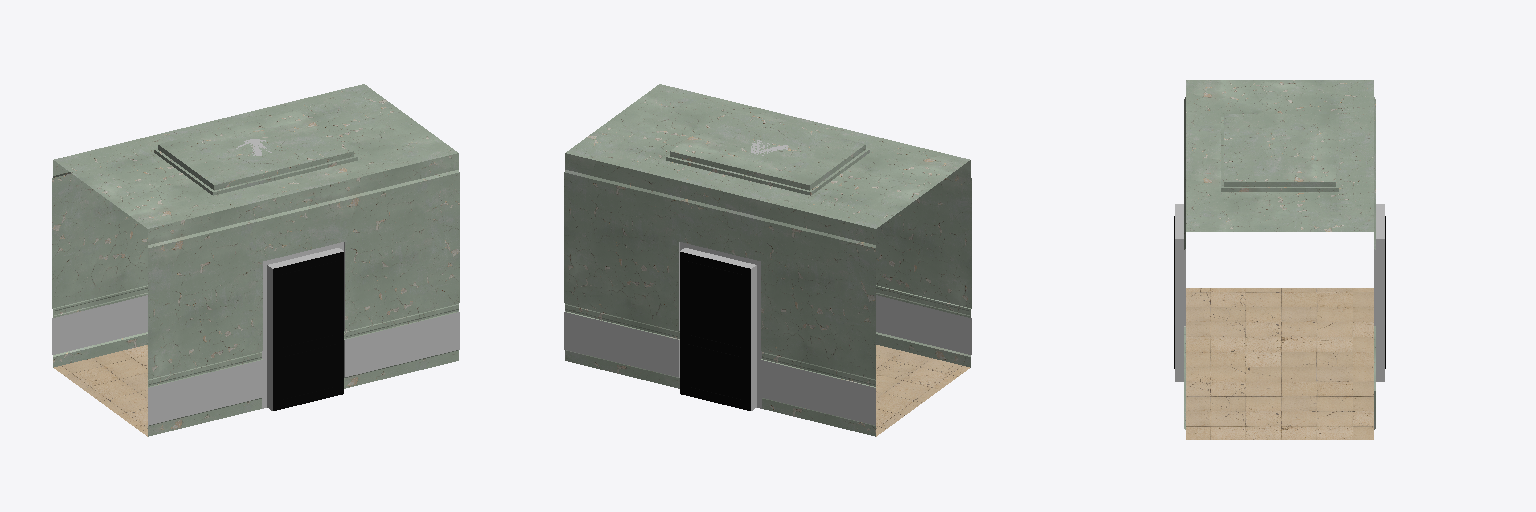
The picture shows the model from 3 angles: view 1: azimuth 30°, elevation 25°; view 2: azimuth 150°, elevation 25°; view 3: azimuth 270°, elevation 25°; orthographic projection.
Visible parts, largest first — view 1: Cube.036, Cube.084, Cube.086; view 2: Cube.036, Cube.084, Cube.086; view 3: Cube.036, Cube.086.
Part boxes in pixels (x1,y1,x2,y2): Cube.036: (52,84,459,436); Cube.084: (273,252,343,410); Cube.086: (54,345,147,436); Cube.036: (564,84,971,436); Cube.084: (680,252,750,410); Cube.086: (876,345,969,436); Cube.036: (1175,80,1384,429); Cube.086: (1186,288,1373,439).
Size of the model in its own units: 4.64 by 3.08 by 2.73.
Materials: 7 (2 with a texture image).